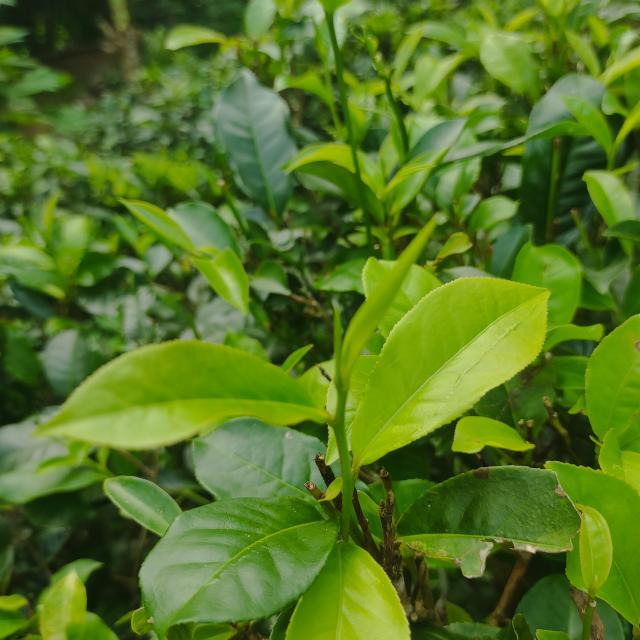unopened_leaf: (334, 206, 451, 384), (322, 296, 352, 396)
